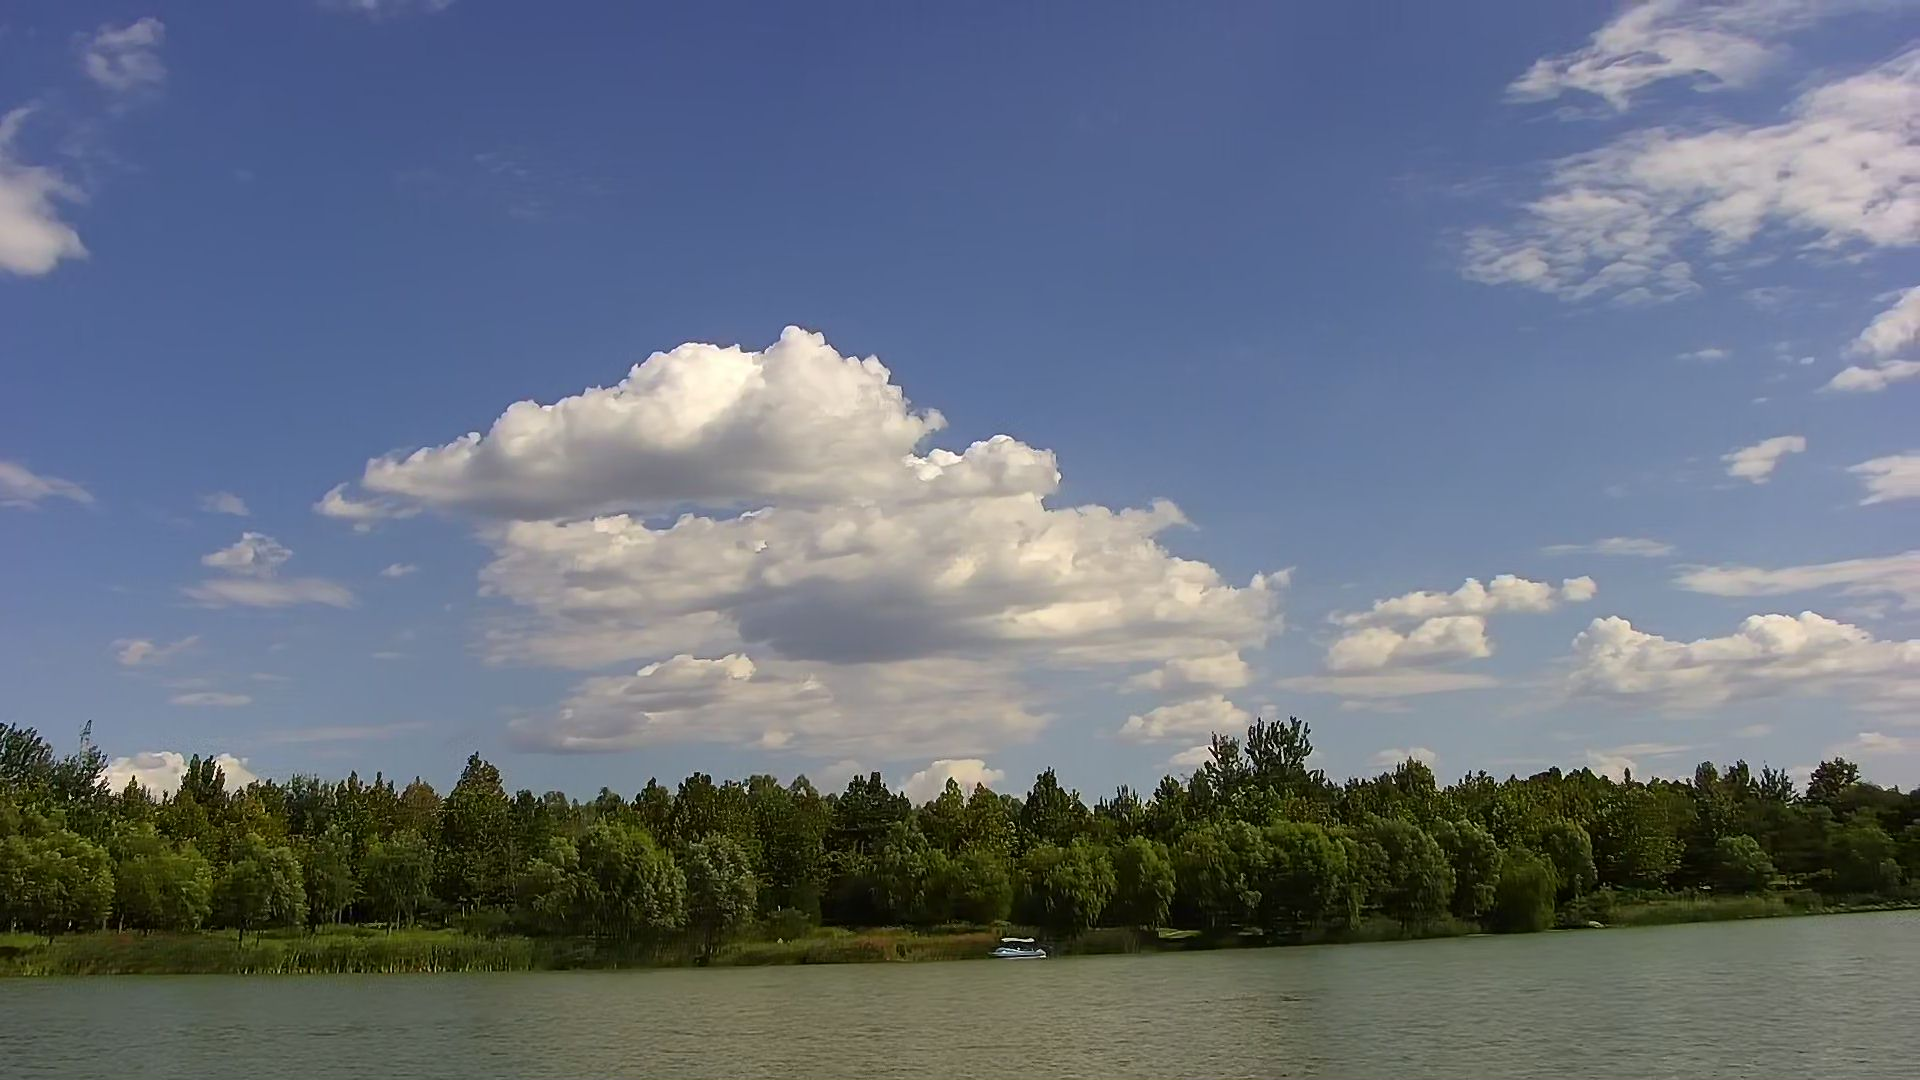boat: (985, 932, 1052, 963)
